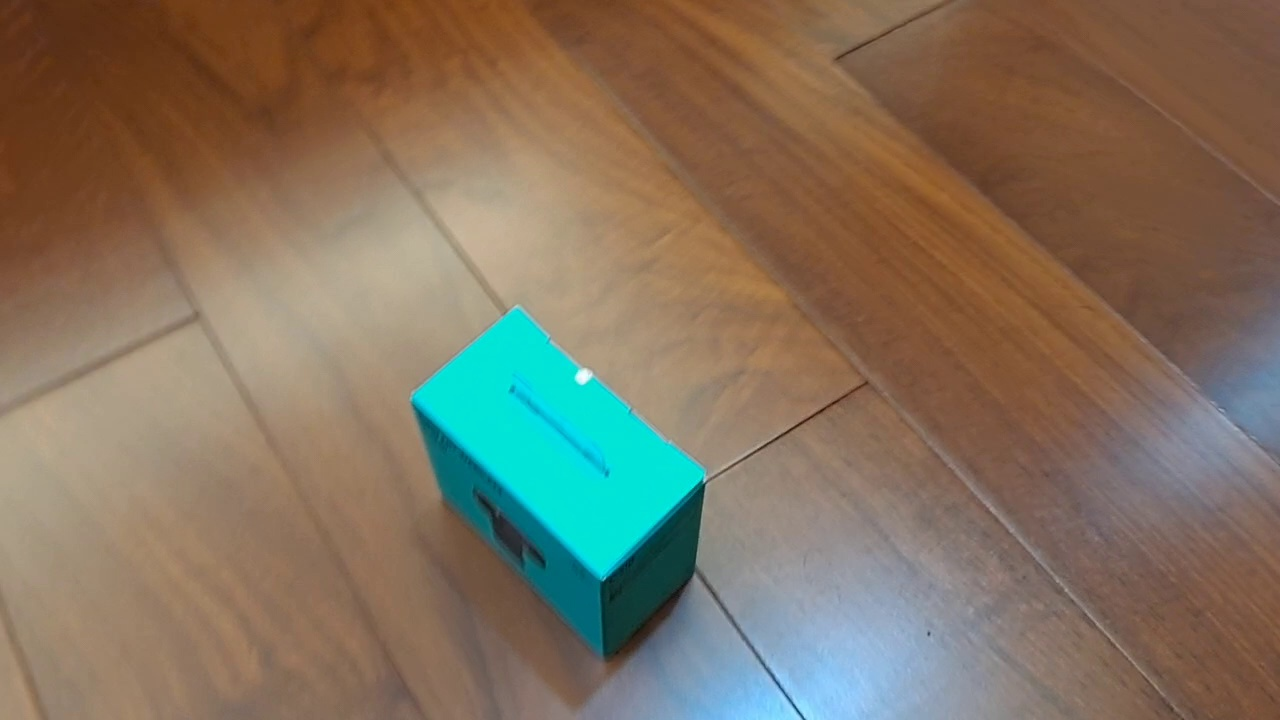webcam: (408, 303, 709, 662)
